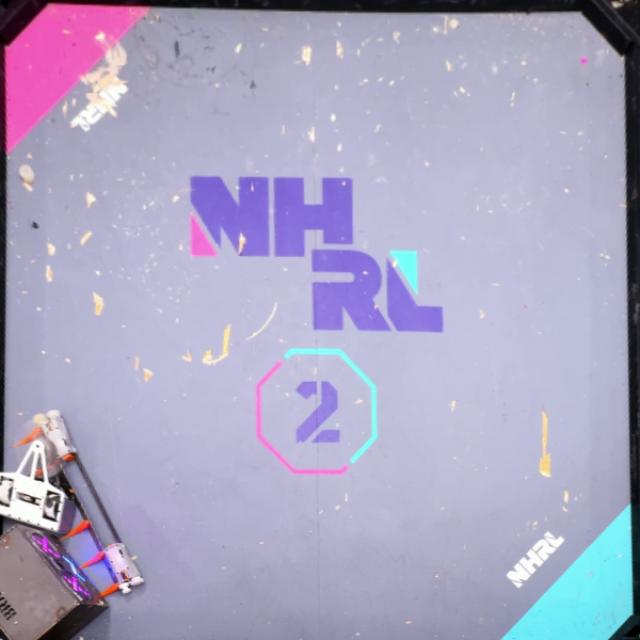housebot: (0, 516, 112, 640)
robot: (51, 450, 149, 602), (0, 422, 73, 532)
